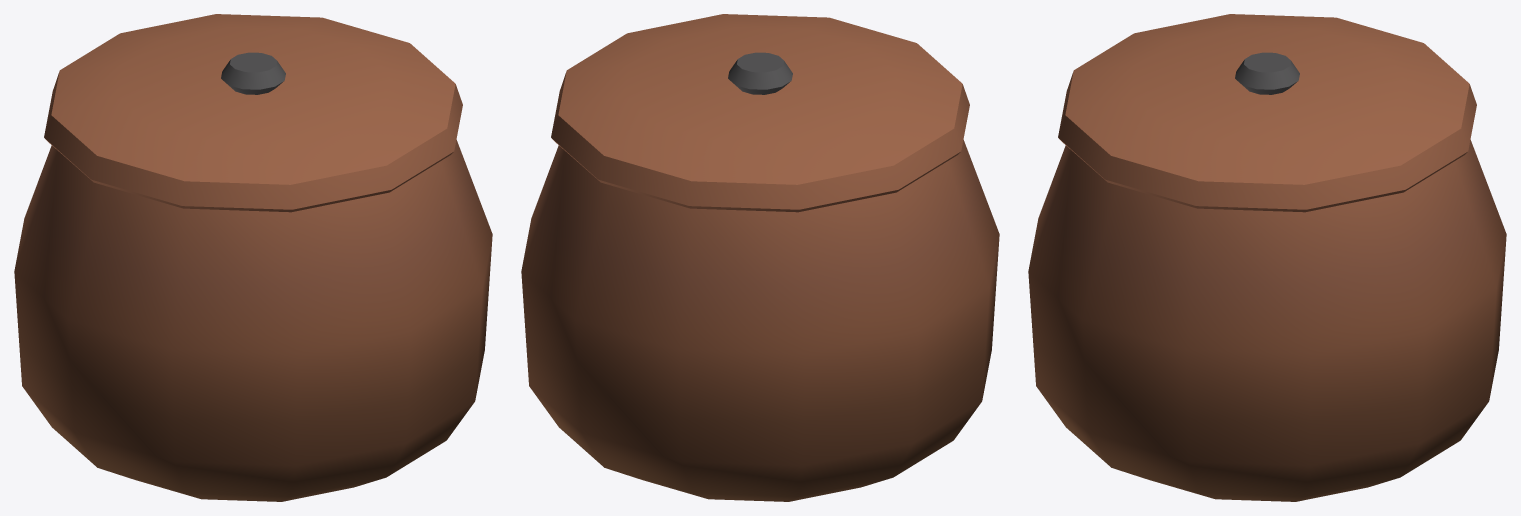
Rendered from Jar_2.fbx.
3 views of the same model, side by side, from view 1: azimuth 30°, elevation 25°; view 2: azimuth 150°, elevation 25°; view 3: azimuth 270°, elevation 25° (orthographic).
Visible parts, largest first — view 1: Jar_2; view 2: Jar_2; view 3: Jar_2.
Part boxes in pixels (x1,y1,x2,y2): Jar_2: (14, 14, 492, 501); Jar_2: (521, 14, 999, 501); Jar_2: (1028, 14, 1506, 501).
Bounding box in the file's own units: 26.01 × 22.49 × 26.01.
